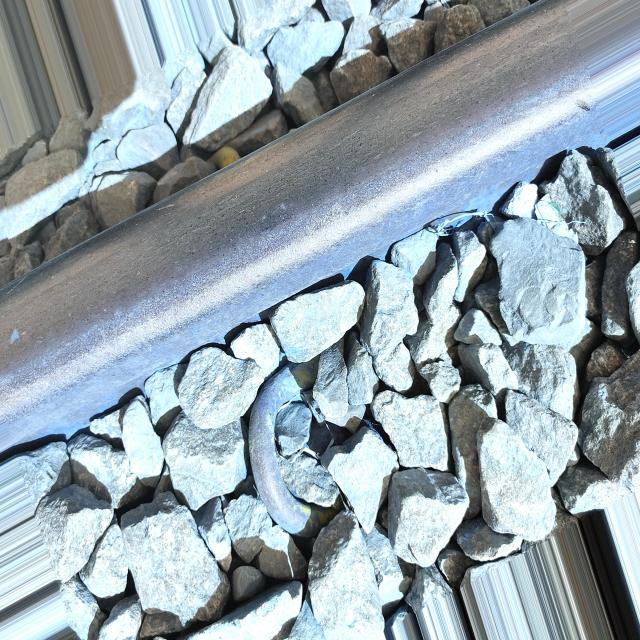defective: (2, 2, 637, 465)
